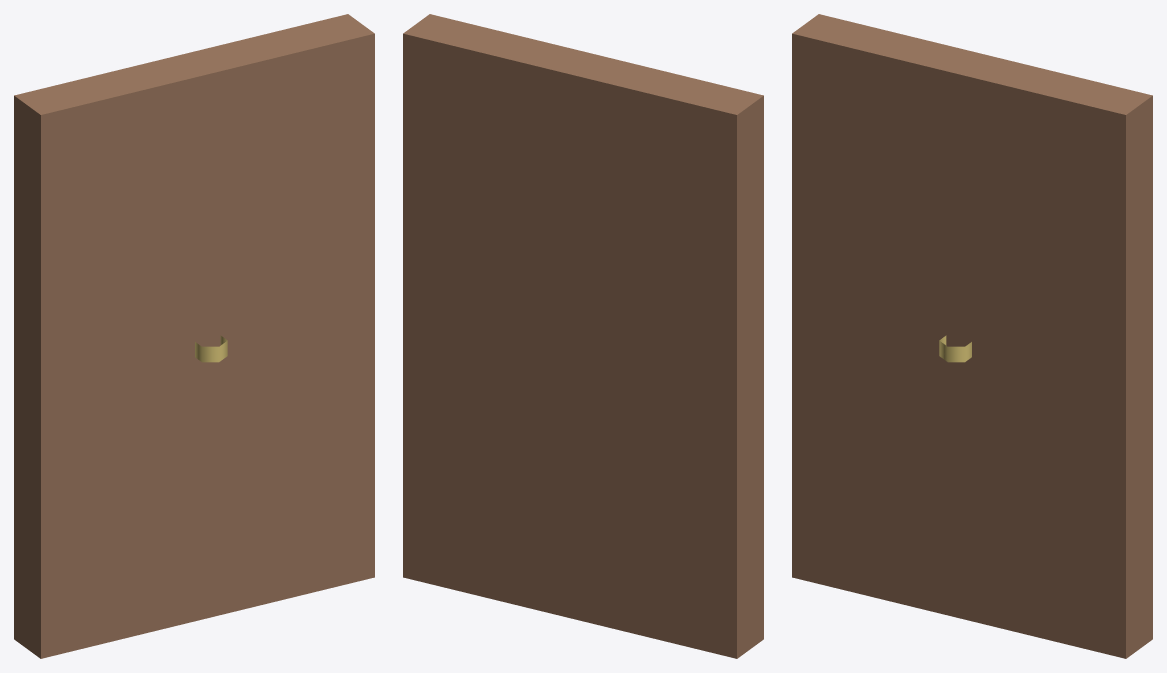
Rendered from carved_door.glb.
3 renders of one model, left to right at view 1: azimuth 30°, elevation 25°; view 2: azimuth 150°, elevation 25°; view 3: azimuth 330°, elevation 25°, orthographic.
Visible parts, largest first — view 1: DoorFrame_Node, BrassKnocker_Node; view 2: DoorFrame_Node; view 3: DoorFrame_Node, BrassKnocker_Node.
Part boxes in pixels (x1=…): DoorFrame_Node: x1=14, y1=14, x2=374, y2=658; BrassKnocker_Node: x1=195, y1=335, x2=227, y2=362; DoorFrame_Node: x1=403, y1=14, x2=763, y2=658; DoorFrame_Node: x1=792, y1=14, x2=1152, y2=658; BrassKnocker_Node: x1=939, y1=335, x2=971, y2=362.
Bounding box in the file's own units: 1.8 × 2.8 × 0.355.
